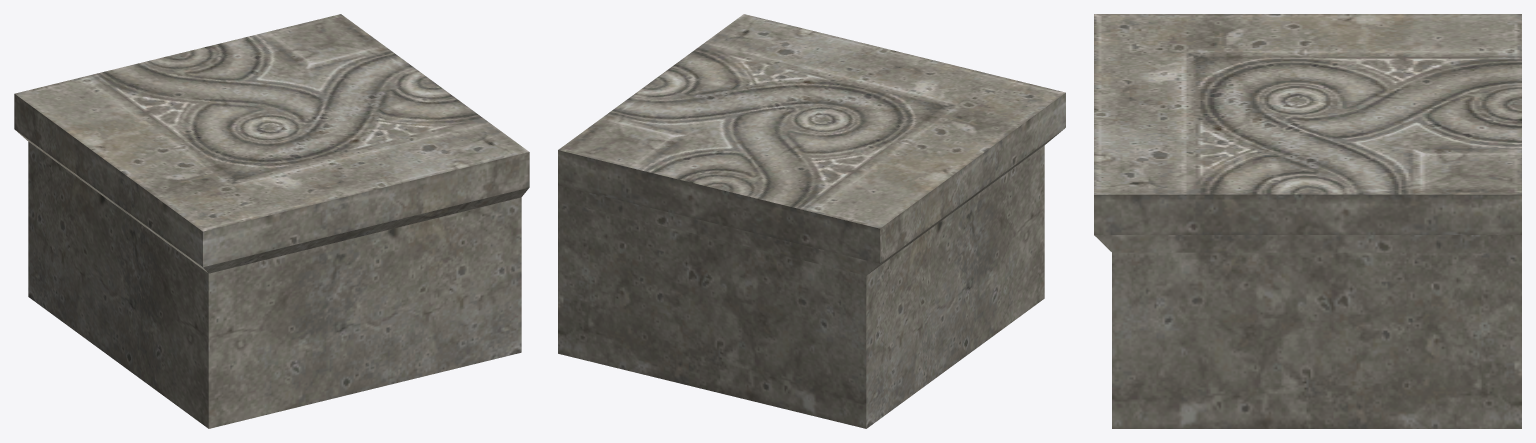
Rendered from bg_lut_lucastle_castleborder01a_sm_phs.FBX.
3 renders of one model, left to right at view 1: azimuth 30°, elevation 25°; view 2: azimuth 150°, elevation 25°; view 3: azimuth 270°, elevation 25°, orthographic. The views are drawn at different scales.
Parts seen in each view (by area): view 1: bg_lut_lucastle_castleborder01a_sm_phs; view 2: bg_lut_lucastle_castleborder01a_sm_phs; view 3: bg_lut_lucastle_castleborder01a_sm_phs.
Part boxes in pixels (left/top/right/bottom): bg_lut_lucastle_castleborder01a_sm_phs: left=14, top=14, right=529, bottom=428; bg_lut_lucastle_castleborder01a_sm_phs: left=558, top=14, right=1065, bottom=428; bg_lut_lucastle_castleborder01a_sm_phs: left=1094, top=14, right=1521, bottom=428.
Bounding box in the file's own units: 96 × 58 × 96.
